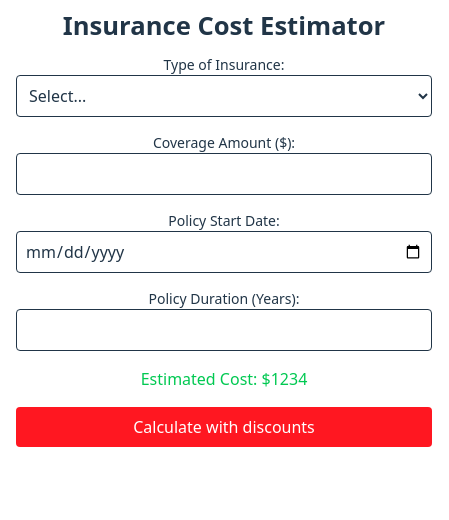
Test: Form › shows validation errors when submitting empty form
What coordinates should you click on to do the following:
click the button "Calculate with discounts"
I would click on:
 (224, 426)
Its box is [16,406,432,446].
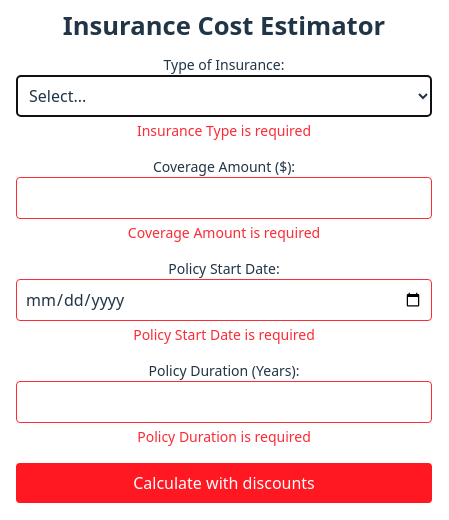
Result: the text "Insurance Type is required" is shown at [137,120,311,140]
Result: the text "Coverage Amount is required" is shown at [128,222,320,242]
Result: the text "Policy Start Date is required" is shown at [133,324,315,344]
